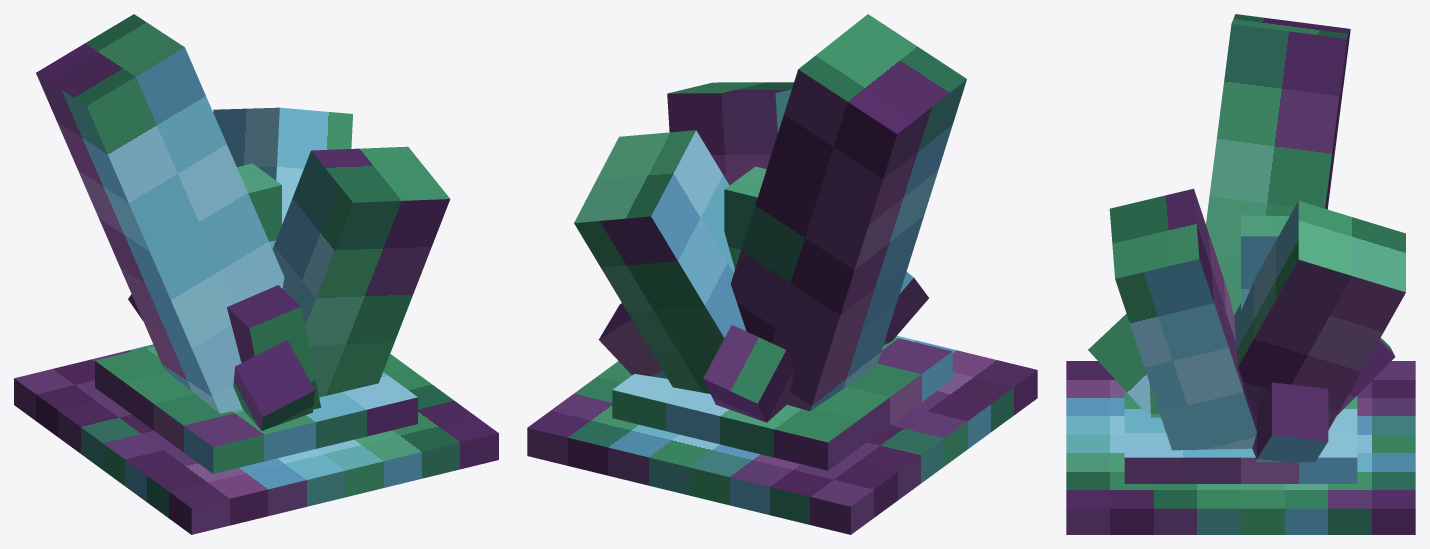
The model's file is fluorite_crystal.obj.
3 views of the same model, side by side, from view 1: azimuth 30°, elevation 25°; view 2: azimuth 150°, elevation 25°; view 3: azimuth 270°, elevation 25° (orthographic). The views are drawn at different scales.
Visible parts, largest first — view 1: cube; view 2: cube; view 3: cube.
Boxes of the visible parts, x1,y1,x2,y2 form: cube: (14,14,498,534); cube: (527,14,1037,534); cube: (1066,14,1415,534).
Size of the model in its own units: 0.796 by 0.9873 by 0.75.
